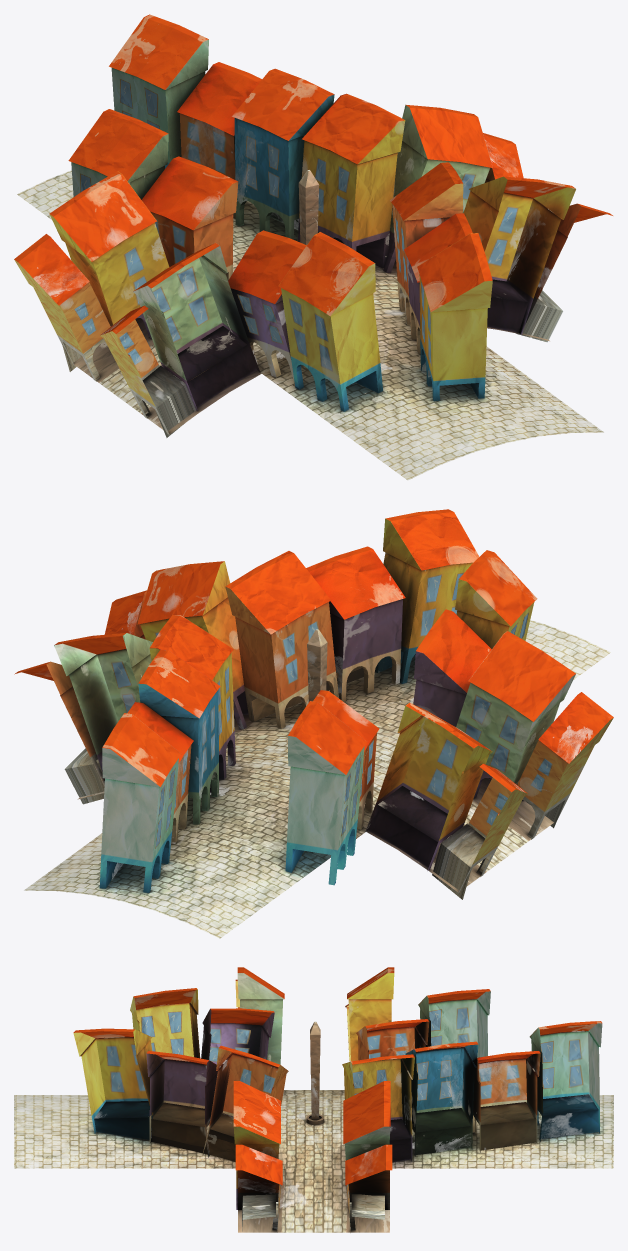
The model's file is modulo_centro_C.FBX.
3 renders of one model, top to bottom at view 1: azimuth 30°, elevation 25°; view 2: azimuth 150°, elevation 25°; view 3: azimuth 270°, elevation 25°, orthographic. The views are drawn at different scales.
Parts seen in each view (by area): view 1: moduli_centro_C_06, moduli_centro_C_01, moduli_centro_C_00, moduli_centro_C_05, moduli_centro_C_03, moduli_centro_C_02, moduli_centro_C_04; view 2: moduli_centro_C_06, moduli_centro_C_01, moduli_centro_C_05, moduli_centro_C_00, moduli_centro_C_03, moduli_centro_C_02, moduli_centro_C_04; view 3: moduli_centro_C_06, moduli_centro_C_05, moduli_centro_C_00, moduli_centro_C_03, moduli_centro_C_02, moduli_centro_C_01, moduli_centro_C_04.
Boxes of the visible parts, x1,y1,x2,y2 form: moduli_centro_C_06: (68, 14, 492, 411); moduli_centro_C_01: (14, 171, 259, 437); moduli_centro_C_00: (232, 68, 463, 325); moduli_centro_C_05: (17, 170, 603, 480); moduli_centro_C_03: (383, 104, 612, 342); moduli_centro_C_02: (72, 259, 549, 434); moduli_centro_C_04: (298, 170, 319, 244); moduli_centro_C_06: (99, 509, 537, 892); moduli_centro_C_01: (365, 631, 613, 899); moduli_centro_C_05: (24, 620, 610, 938); moduli_centro_C_00: (138, 551, 339, 824); moduli_centro_C_03: (14, 561, 248, 804); moduli_centro_C_02: (77, 711, 553, 892); moduli_centro_C_04: (307, 629, 327, 702); moduli_centro_C_06: (73, 988, 602, 1157); moduli_centro_C_05: (14, 1095, 613, 1168); moduli_centro_C_00: (202, 1041, 478, 1162); moduli_centro_C_03: (233, 1081, 392, 1231); moduli_centro_C_02: (238, 1090, 389, 1232); moduli_centro_C_01: (235, 967, 394, 1064); moduli_centro_C_04: (306, 1021, 323, 1125).
Size of the model in its own units: 261 by 102 by 355.
